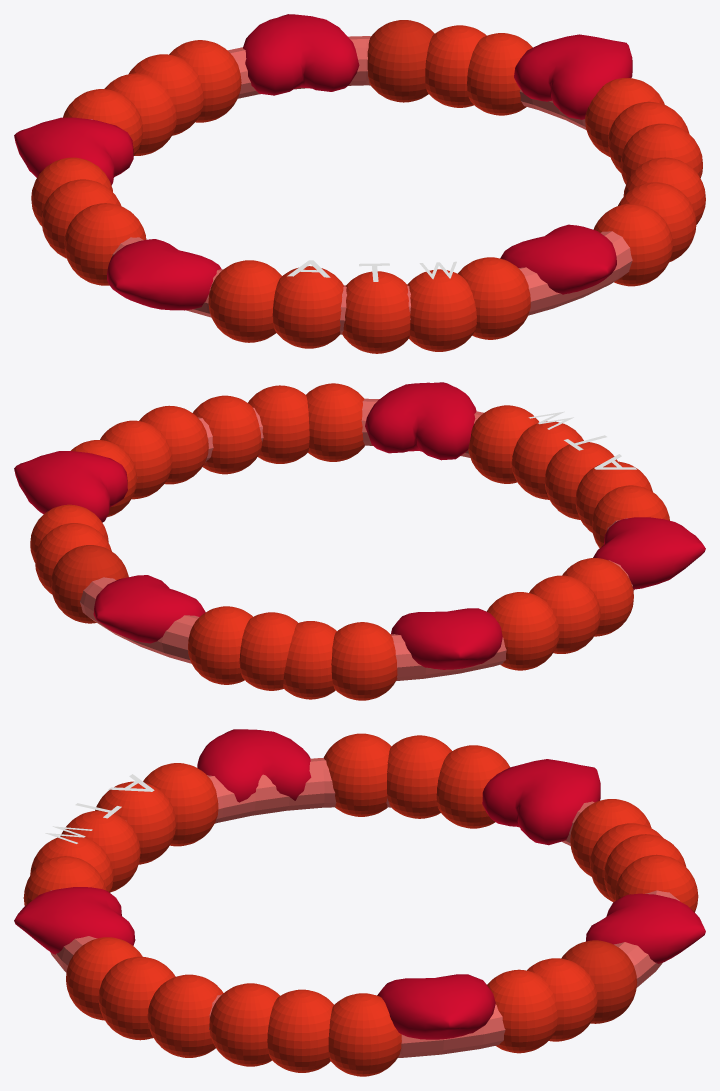
The model's file is Red_ATW.fbx.
3 views of the same model, one above another, from view 1: azimuth 30°, elevation 25°; view 2: azimuth 150°, elevation 25°; view 3: azimuth 270°, elevation 25° (orthographic). The views are drawn at different scales.
Visible parts, largest first — view 1: Vert.003, Vert.005, Vert.002, Vert.001, Vert.004, Torus.001, Sphere.016, Sphere.015, Sphere.017, Sphere.019, Sphere.004, Sphere.009 (+15 smaller); view 2: Vert.001, Vert.005, Vert.004, Vert.002, Vert.003, Torus.001, Sphere.011, Sphere.021, Sphere.006, Sphere.001, Sphere.018, Sphere.005 (+15 smaller); view 3: Torus.001, Vert.004, Vert.005, Vert.002, Vert.001, Vert.003, Sphere.002, Sphere.001, Sphere.003, Sphere.010, Sphere.012, Sphere.007 (+15 smaller).
Part boxes in pixels (x1,y1,x2,y2): Vert.003: (243, 14, 359, 95); Vert.005: (514, 34, 632, 119); Vert.002: (107, 239, 221, 310); Vert.001: (500, 224, 616, 294); Vert.004: (14, 117, 133, 185); Torus.001: (90, 36, 632, 334); Sphere.016: (272, 266, 343, 348); Sphere.015: (208, 260, 281, 342); Sphere.017: (342, 271, 410, 353); Sphere.019: (407, 269, 476, 351); Sphere.004: (367, 20, 434, 102); Sphere.009: (457, 257, 530, 339); Vert.001: (365, 382, 476, 460); Vert.005: (14, 451, 127, 522); Vert.004: (391, 608, 502, 669); Vert.002: (593, 517, 705, 589); Vert.003: (93, 575, 205, 643); Torus.001: (80, 398, 634, 680); Sphere.011: (331, 622, 397, 700); Sphere.021: (487, 592, 559, 670); Sphere.006: (306, 383, 364, 461); Sphere.001: (193, 395, 261, 474); Sphere.018: (188, 606, 252, 684); Sphere.005: (248, 385, 309, 463); Torus.001: (50, 758, 679, 1057); Vert.004: (482, 759, 600, 845); Vert.005: (377, 974, 495, 1039); Vert.002: (197, 729, 311, 802); Vert.001: (14, 887, 135, 954); Vert.003: (586, 893, 705, 963); Sphere.002: (328, 993, 401, 1076); Sphere.001: (147, 974, 223, 1057); Sphere.003: (267, 989, 333, 1072); Sphere.010: (323, 733, 391, 816); Sphere.012: (209, 983, 279, 1066); Sphere.007: (487, 969, 558, 1053).
Bounding box in the file's own units: 121 × 17.15 × 116.
